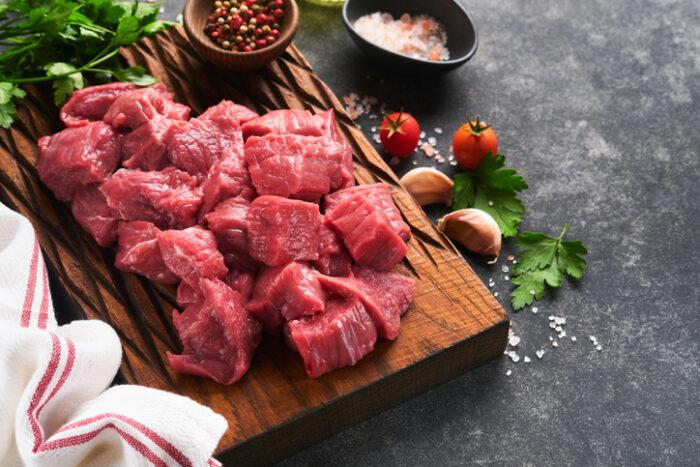beef: (73, 78, 436, 263)
